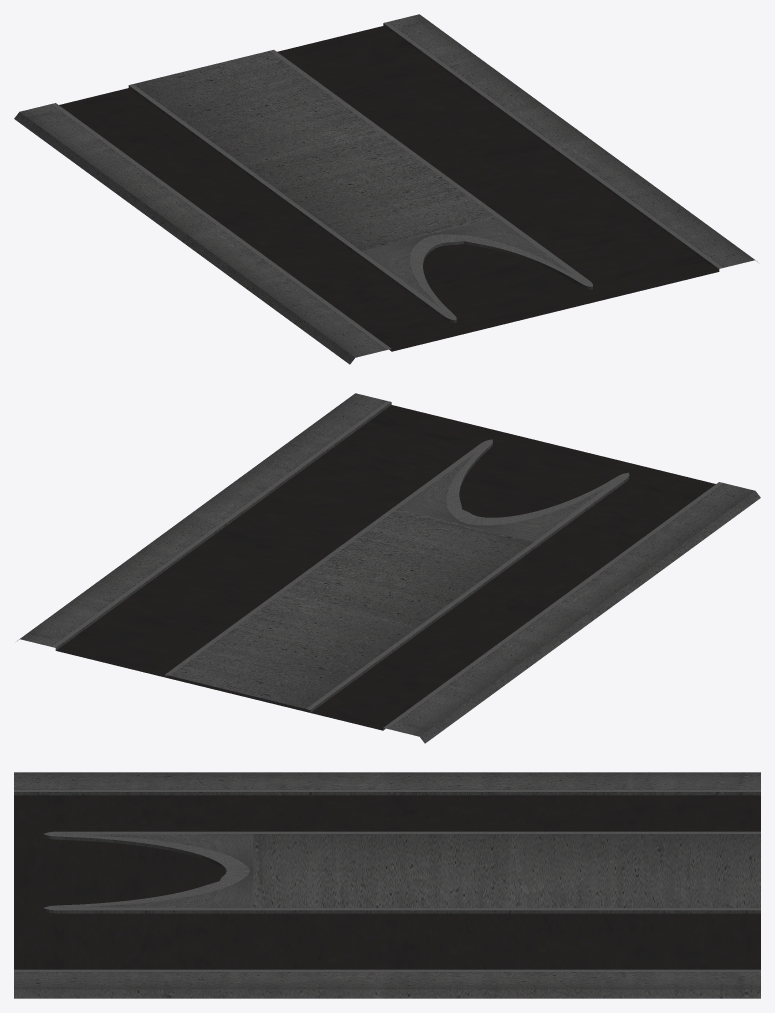
The model's file is RJs_Road Pass 2+4+2 Basic Node_L.fbx.
3 renders of one model, top to bottom at view 1: azimuth 30°, elevation 25°; view 2: azimuth 150°, elevation 25°; view 3: azimuth 270°, elevation 25°, orthographic. The views are drawn at different scales.
Parts seen in each view (by area): view 1: plane; view 2: plane; view 3: plane.
Part boxes in pixels (left/top/right/bottom): plane: left=14, top=14, right=757, bottom=364; plane: left=17, top=393, right=760, bottom=743; plane: left=14, top=772, right=760, bottom=998.
Size of the model in its own units: 4520 by 61.07 by 6400.
